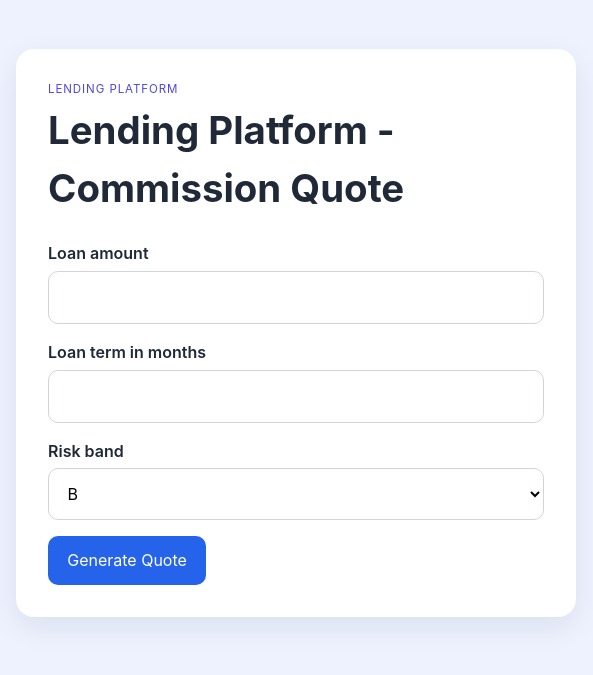
Test case: App › shows an API error message on failure
Type "100000" into the number field labelled "Loan amount" at coordinates (296, 298), box [48,271,544,324]
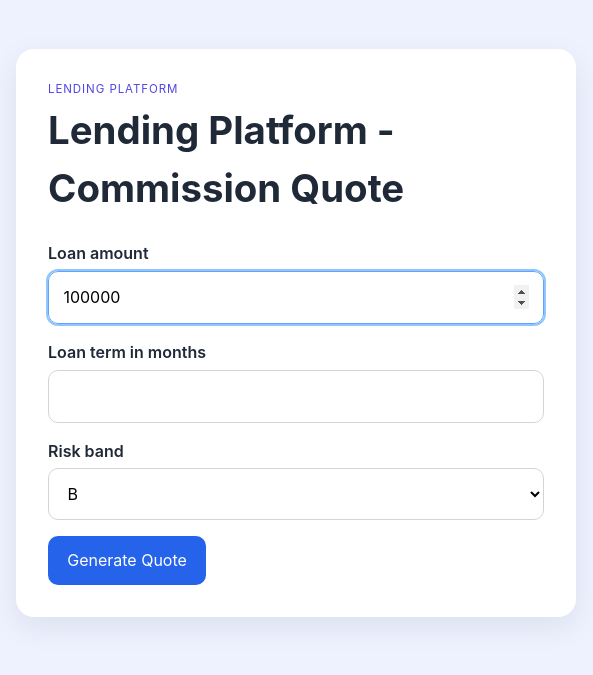
Type "60" into the number field labelled "Loan term in months" at coordinates (296, 396), box [48,370,544,423]
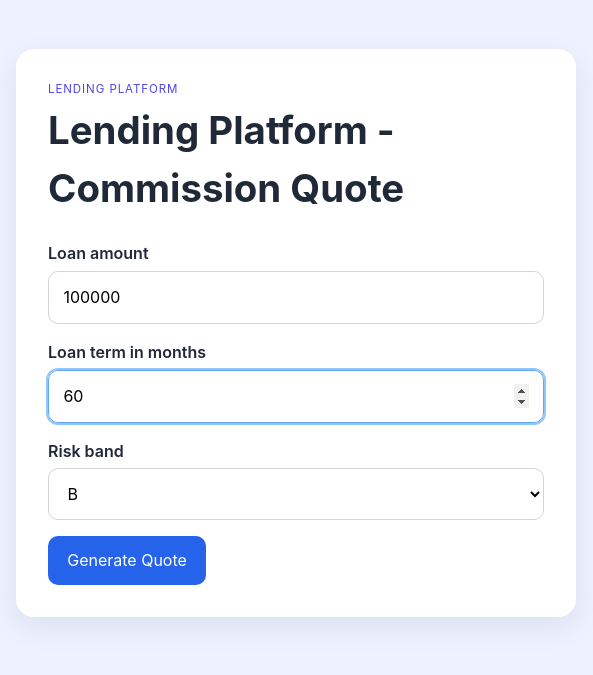
Click the button "Generate Quote" at coordinates (127, 560), box [48,536,206,585]
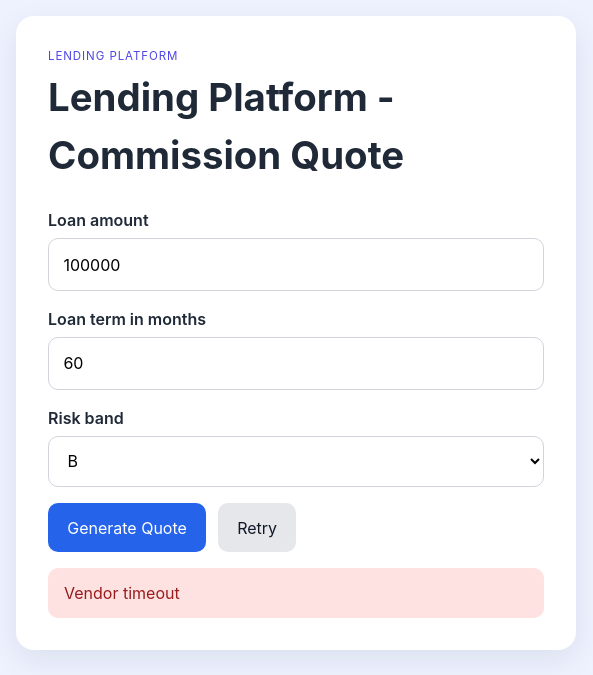
Now the text "Vendor timeout" is shown, box [48,568,544,618]
